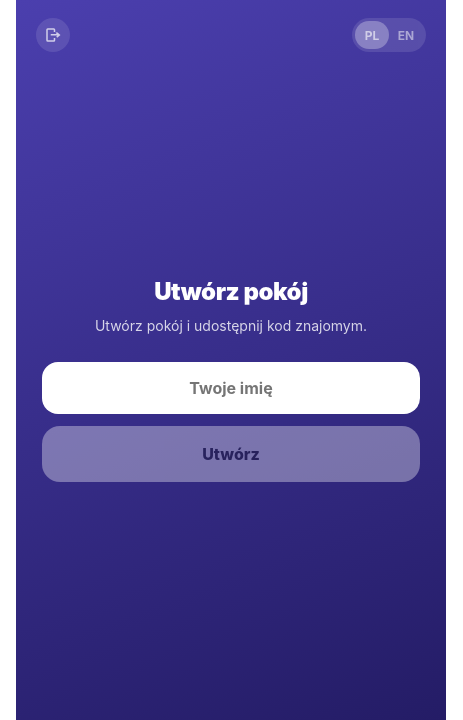
Test: the Create Room form name › Create is disabled for a name: Anna
The image size is (463, 720).
In the field with placeholder "Twoje imię": [231, 388] box [42, 362, 420, 414], type "Anna"
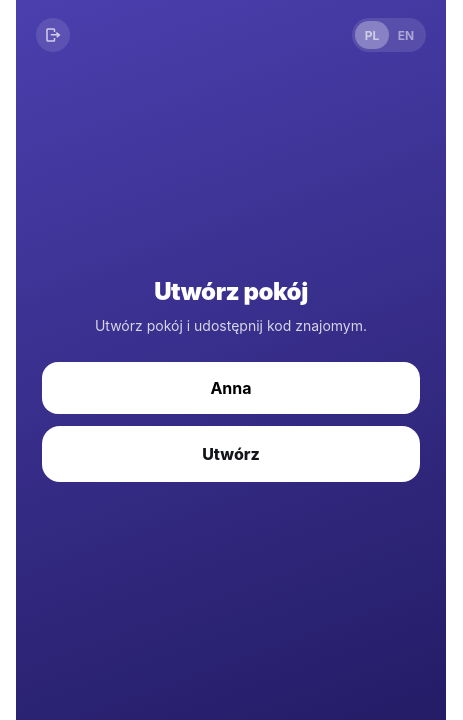
Expected: the button "Utwórz" is enabled, [42, 426, 420, 482]
